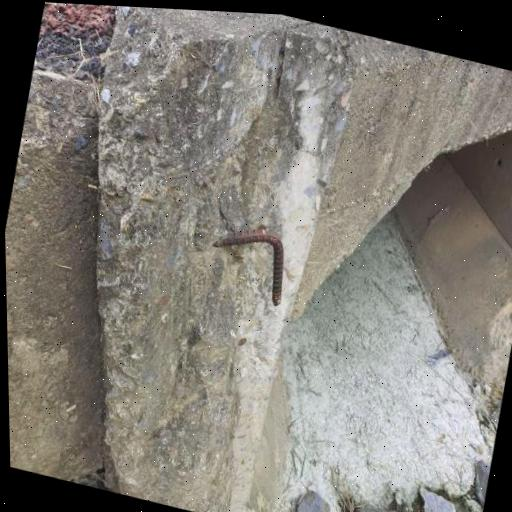exposed_rebar: (213, 225, 284, 307)
